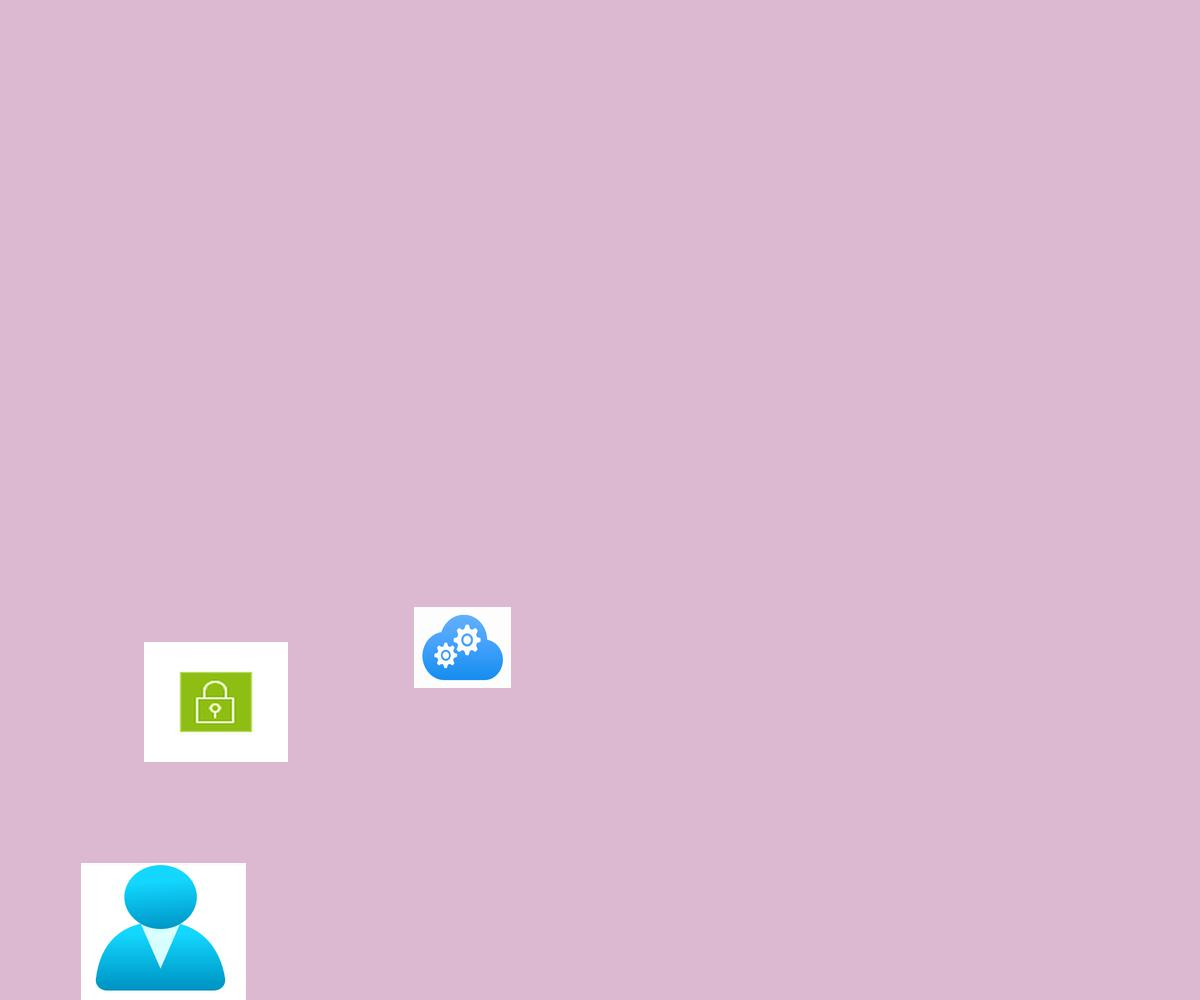AWS-Public-subnet: (144, 642, 288, 762)
Azure_cloud_services: (414, 607, 511, 688)
Azure_users: (81, 863, 246, 1000)
